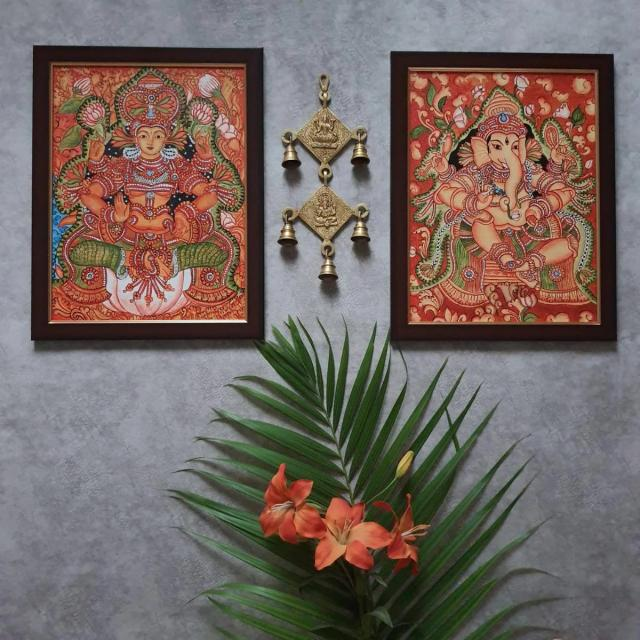painting: (31, 45, 264, 340), (390, 51, 623, 345)
